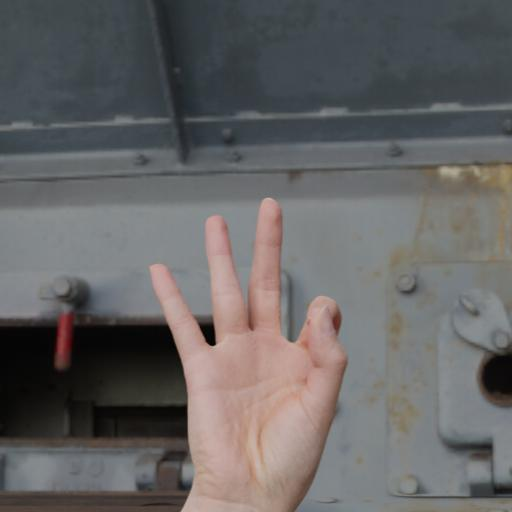F: (146, 195, 351, 510)
